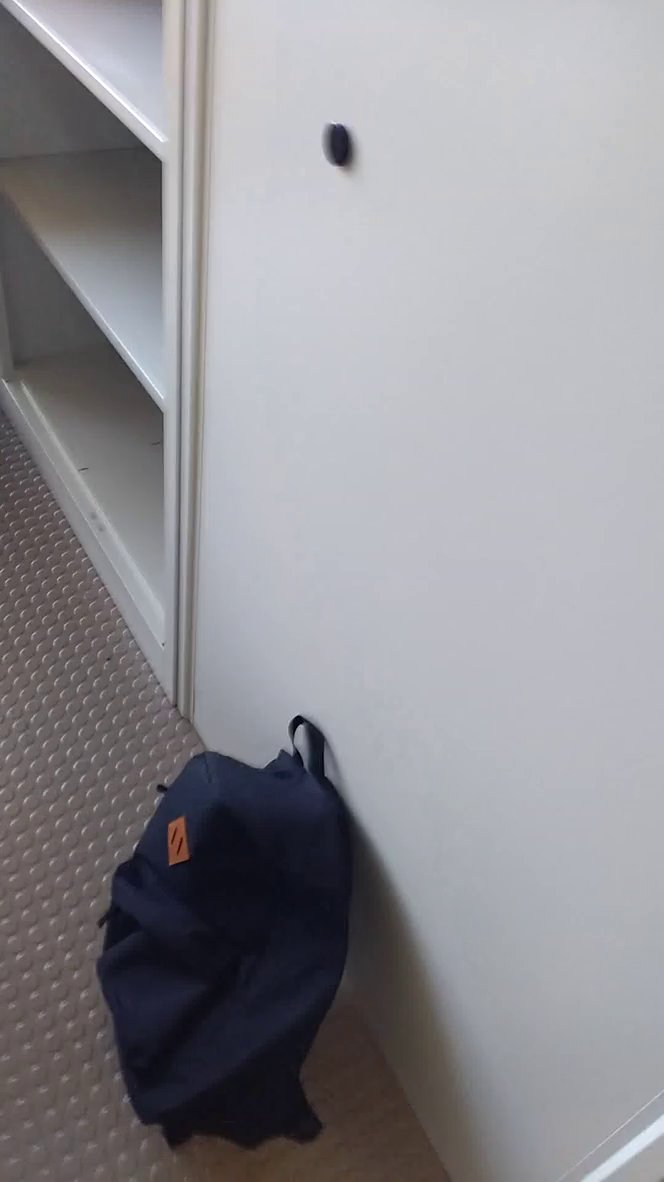bag: (87, 705, 374, 1168)
